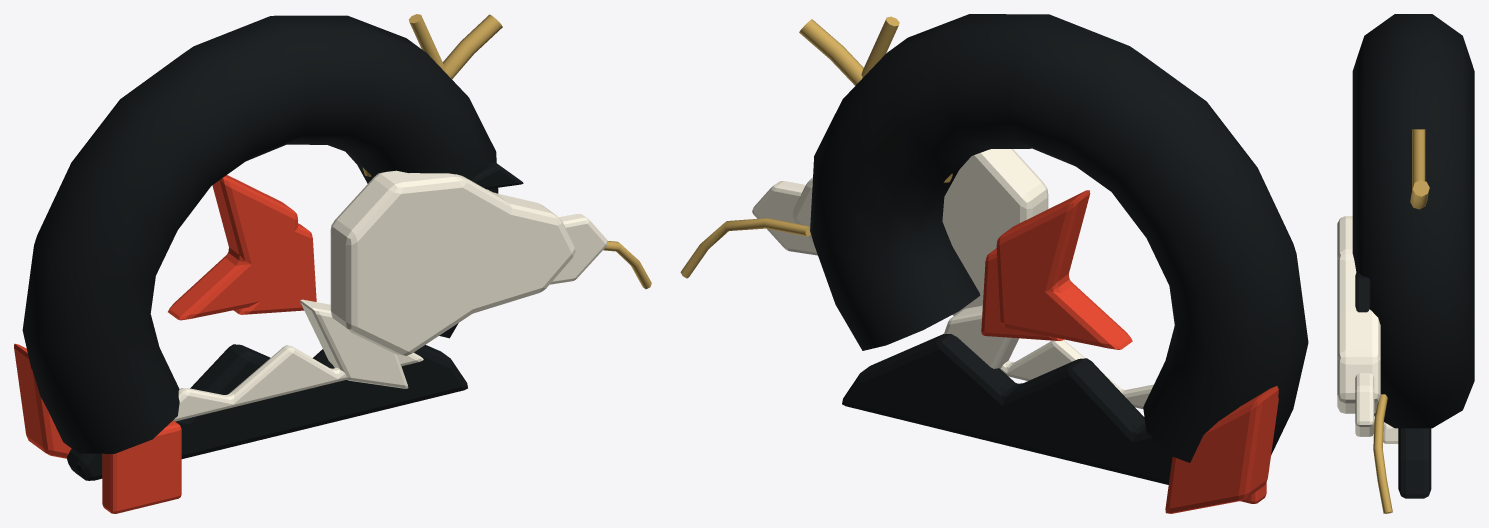
3 renders of one model, left to right at view 1: azimuth 30°, elevation 25°; view 2: azimuth 150°, elevation 25°; view 3: azimuth 270°, elevation 25°, orthographic. The views are drawn at different scales.
Parts seen in each view (by area): view 1: 2048 monumental ring dragon, 2048 huge dragon head, 2048 ink wave, 2048 huge vermilion mane, 2048 seal, 2048 paper foam, 2048 ivory claw, 2048 cheek mane, 2048 cinnabar tail flag, 2048 long dragon muzzle, 2048 antler B, 2048 brow (+1 smaller); view 2: 2048 monumental ring dragon, 2048 ink wave, 2048 huge vermilion mane, 2048 huge dragon head, 2048 cinnabar tail flag, 2048 paper foam, 2048 long dragon muzzle, 2048 ivory claw, 2048 cheek mane, 2048 whisker, 2048 antler B, 2048 antler B fork; view 3: 2048 monumental ring dragon, 2048 huge dragon head, 2048 ink wave, 2048 long dragon muzzle, 2048 whisker, 2048 antler B fork, 2048 brow, 2048 antler B, 2048 ivory claw.
Boxes of the visible parts, box(x1,y1,x2,y2) form: 2048 monumental ring dragon: box(22, 15, 498, 453); 2048 huge dragon head: box(330, 170, 575, 355); 2048 ink wave: box(67, 344, 467, 480); 2048 huge vermilion mane: box(168, 175, 298, 320); 2048 seal: box(102, 420, 181, 513); 2048 paper foam: box(173, 345, 423, 421); 2048 ivory claw: box(300, 299, 408, 388); 2048 cheek mane: box(234, 223, 316, 314); 2048 cinnabar tail flag: box(14, 343, 71, 458); 2048 long dragon muzzle: box(550, 214, 607, 284); 2048 antler B: box(443, 14, 502, 79); 2048 brow: box(472, 162, 523, 189); 2048 monumental ring dragon: box(810, 14, 1308, 462); 2048 ink wave: box(842, 334, 1172, 484); 2048 huge vermilion mane: box(996, 190, 1132, 349); 2048 huge dragon head: box(792, 149, 1048, 315); 2048 cinnabar tail flag: box(1165, 386, 1278, 513); 2048 paper foam: box(1000, 340, 1153, 408); 2048 long dragon muzzle: box(752, 181, 817, 255); 2048 ivory claw: box(944, 305, 1018, 368); 2048 cheek mane: box(981, 248, 1063, 340); 2048 whisker: box(680, 218, 810, 278); 2048 antler B: box(799, 19, 863, 85); 2048 antler B fork: box(861, 16, 899, 77); 2048 monumental ring dragon: box(1352, 14, 1474, 428); 2048 huge dragon head: box(1337, 216, 1380, 413); 2048 ink wave: box(1398, 428, 1431, 498); 2048 long dragon muzzle: box(1355, 373, 1374, 436); 2048 whisker: box(1373, 394, 1392, 513); 2048 antler B fork: box(1412, 129, 1425, 190); 2048 brow: box(1355, 273, 1370, 312); 2048 antler B: box(1410, 180, 1429, 209); 2048 ivory claw: box(1383, 427, 1398, 443).
Bounding box in the file's own units: 2.56 × 1.73 × 0.54.
